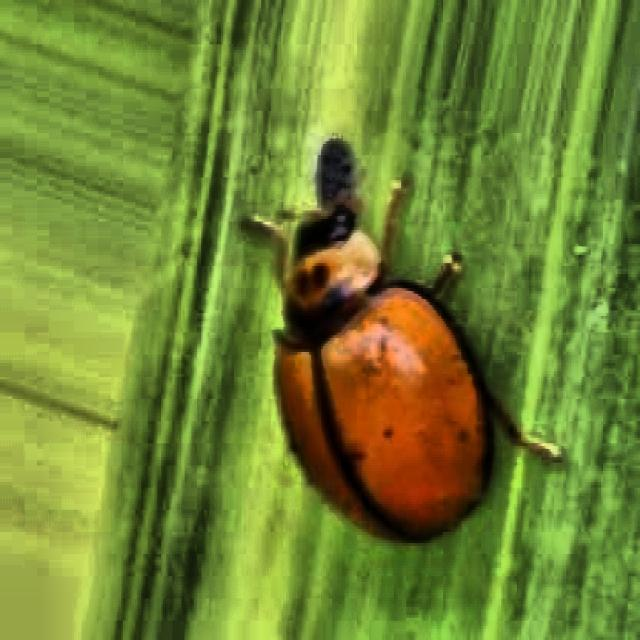Ladybug: (198, 124, 566, 607)
